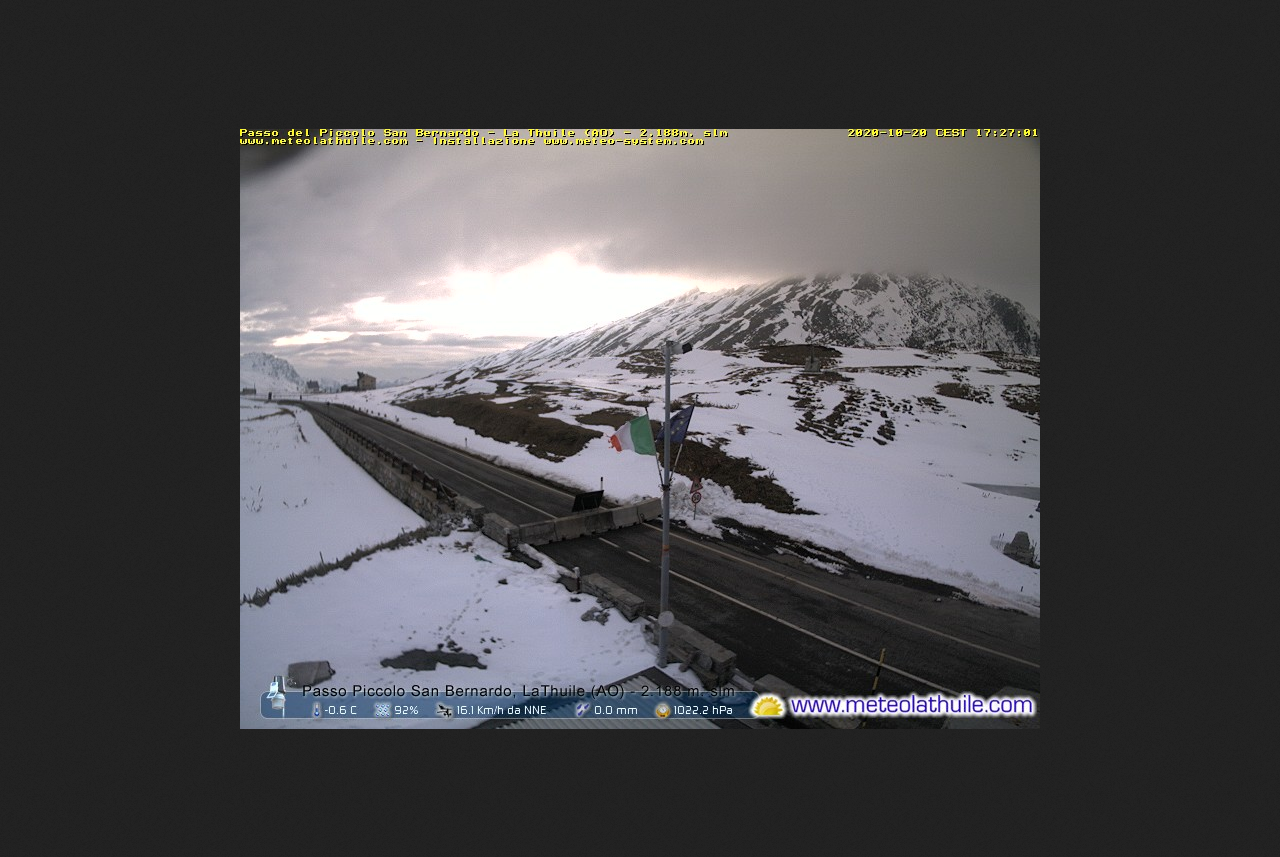yes: (608, 416, 661, 457), (655, 404, 695, 447)
